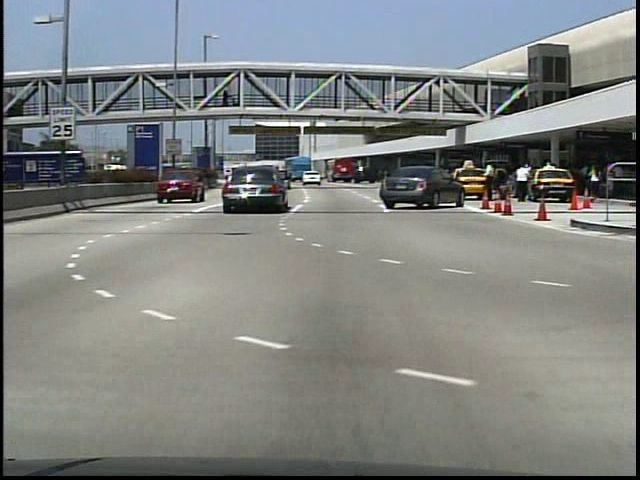person: (512, 160, 534, 204), (481, 163, 499, 204), (583, 165, 602, 203), (520, 162, 534, 202), (220, 90, 231, 111)
